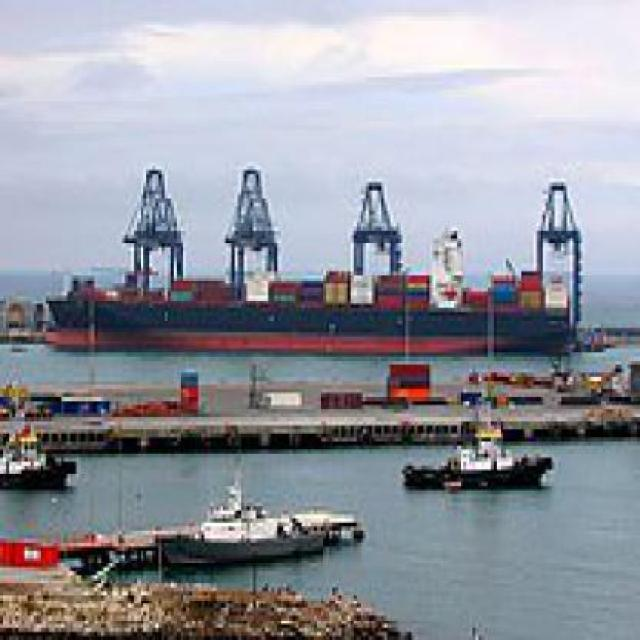container: (37, 159, 596, 370)
